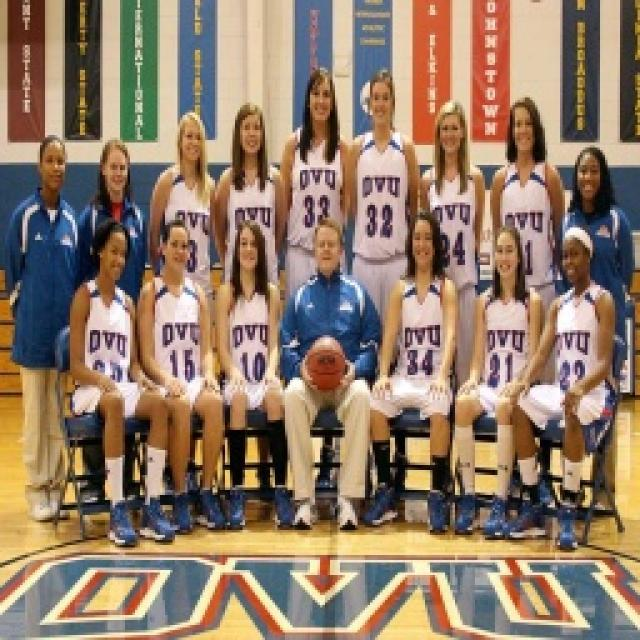rim: (302, 334, 348, 394)
